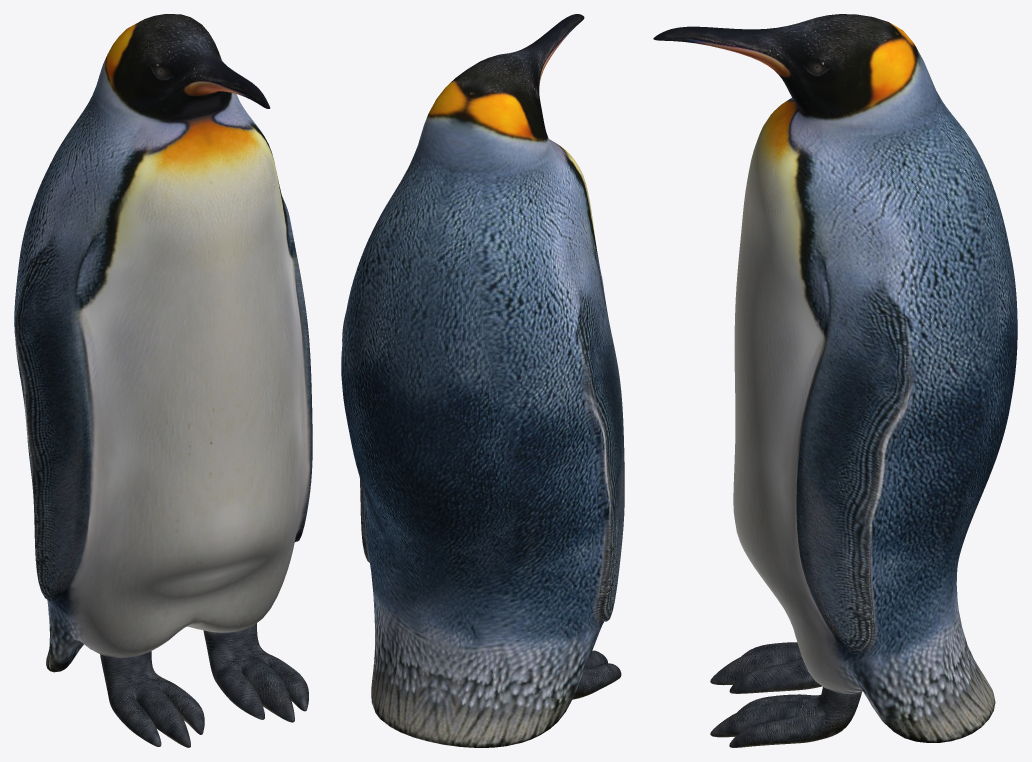
File: Penguino.obj
3 views of the same model, side by side, from view 1: azimuth 30°, elevation 25°; view 2: azimuth 150°, elevation 25°; view 3: azimuth 270°, elevation 25° (orthographic). The views are drawn at different scales.
Visible parts, largest first — view 1: pinguin; view 2: pinguin; view 3: pinguin.
Boxes of the visible parts, left/top/right/bottom form: pinguin: left=14, top=14, right=312, bottom=747; pinguin: left=341, top=14, right=624, bottom=747; pinguin: left=653, top=14, right=1017, bottom=747.
Bounding box in the file's own units: 43.35 × 104 × 49.4.
1 material, 1 textured.
